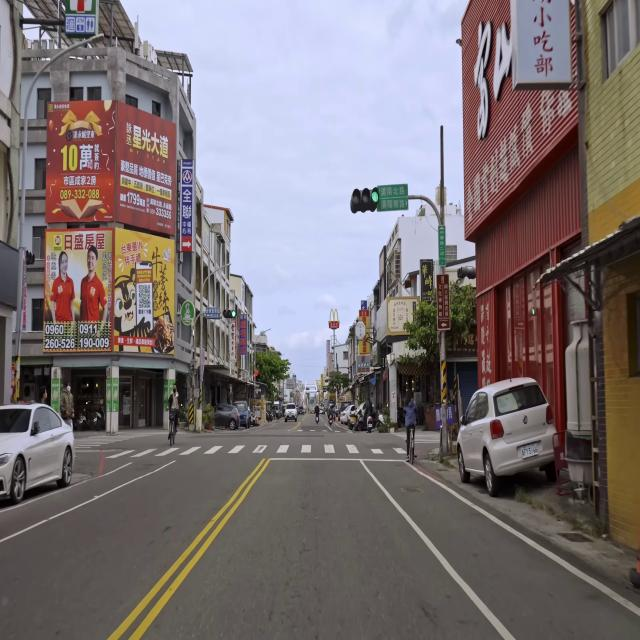green light: (350, 188, 379, 210), (223, 309, 236, 319)
